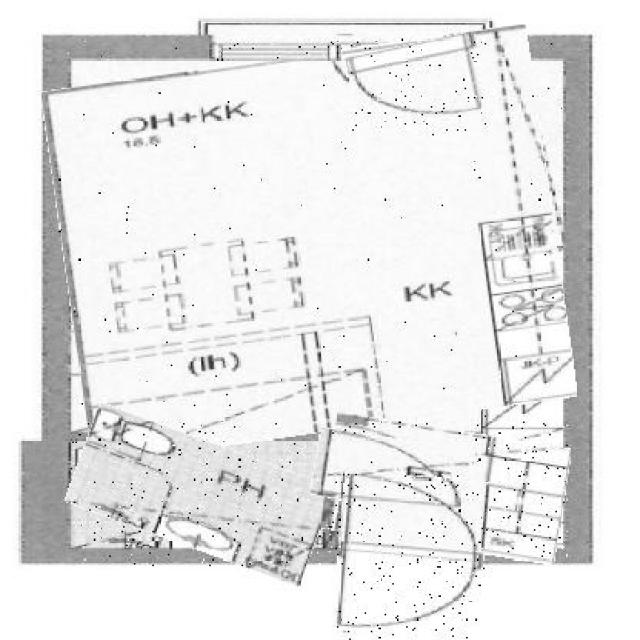door: (337, 474, 488, 640), (349, 37, 486, 131), (312, 434, 474, 512)
window: (216, 40, 342, 60)
zone: (52, 40, 566, 448), (71, 423, 329, 566), (324, 421, 568, 557)
